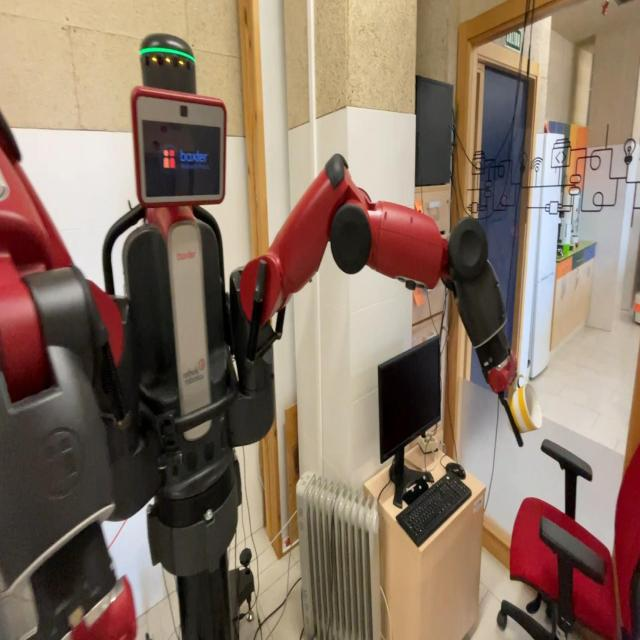cup: (508, 369, 544, 436)
